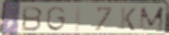7: (94, 6, 114, 32)
B: (21, 6, 44, 32)
G: (45, 5, 67, 32)
I: (73, 5, 84, 33)
K: (119, 6, 138, 32)
M: (138, 6, 166, 32)
